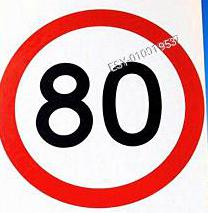Speed Limit -80-: (0, 1, 207, 212)
